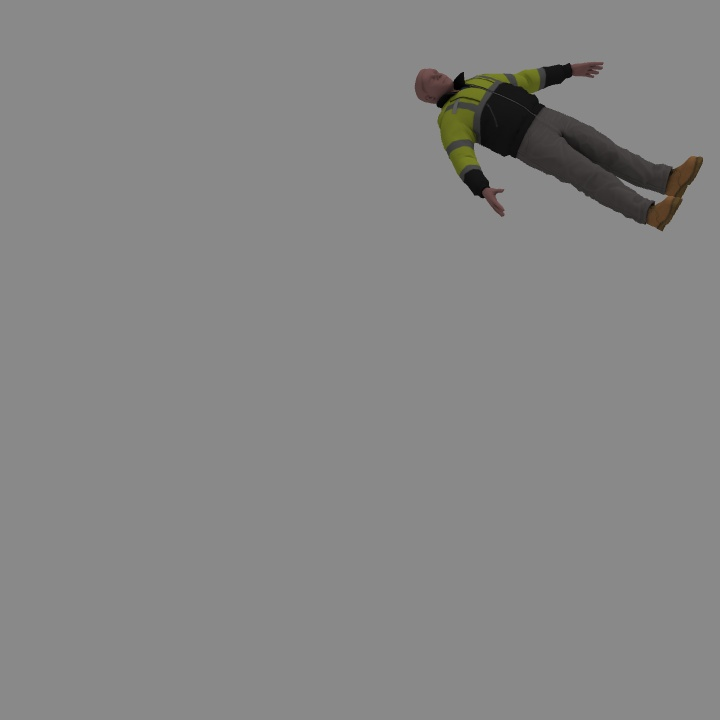victim: (418, 62, 703, 227)
